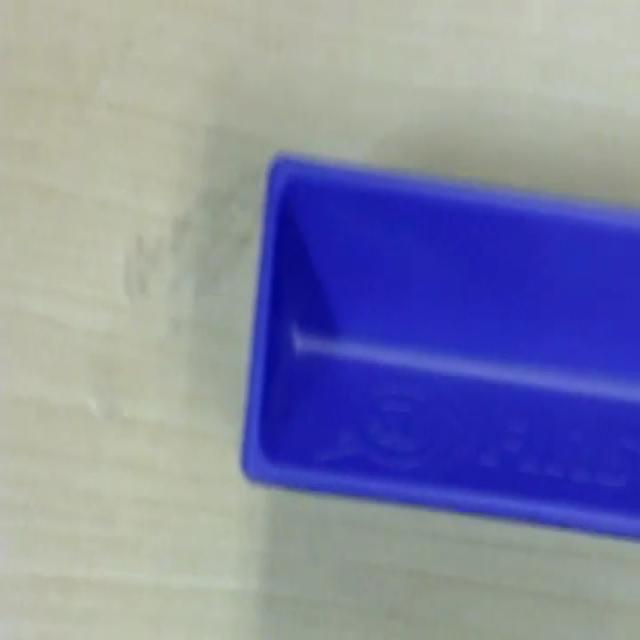blue_block: (238, 147, 638, 540)
